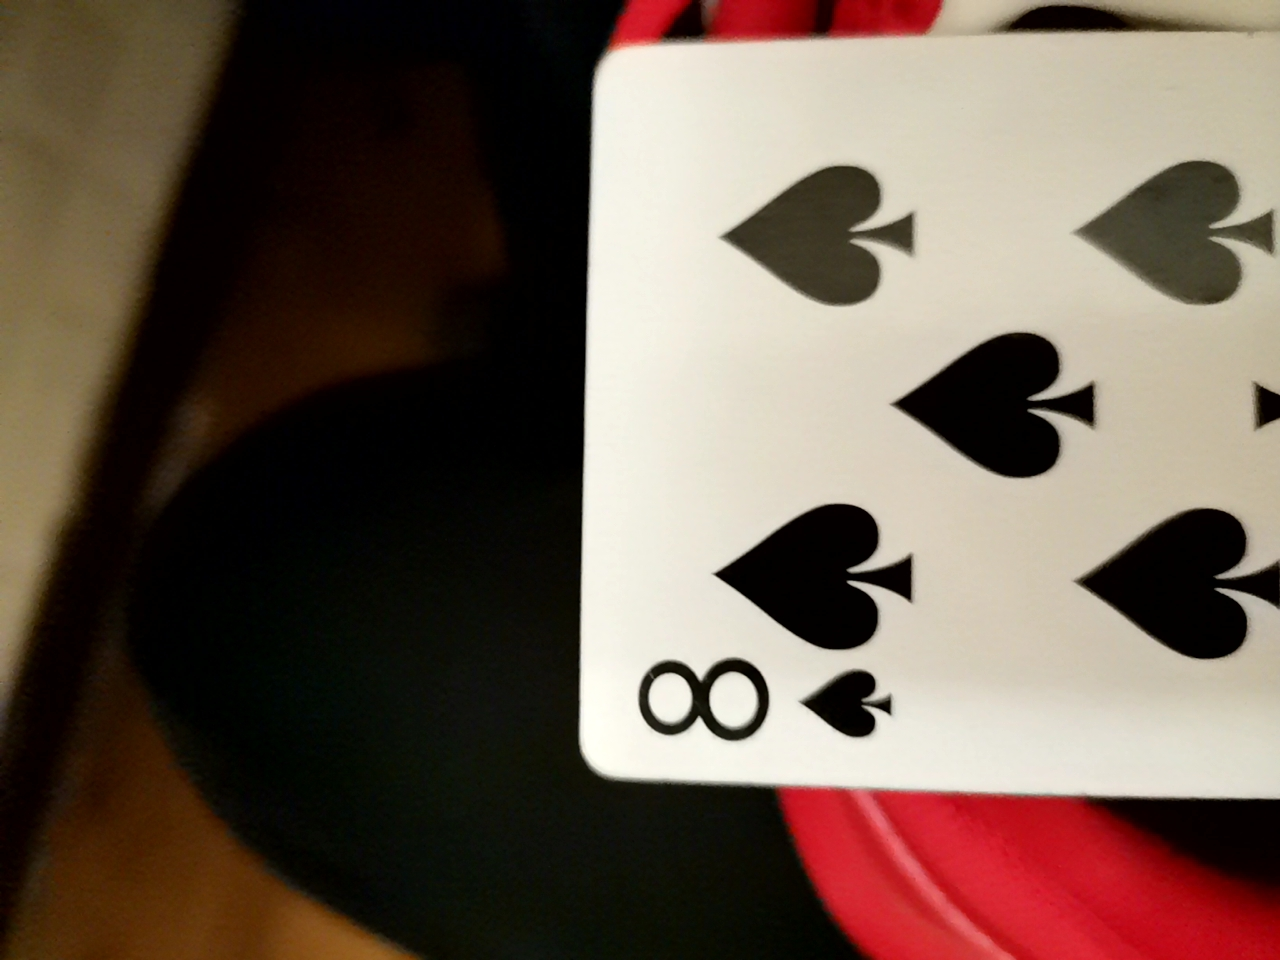ht 8: (586, 22, 1274, 847)
